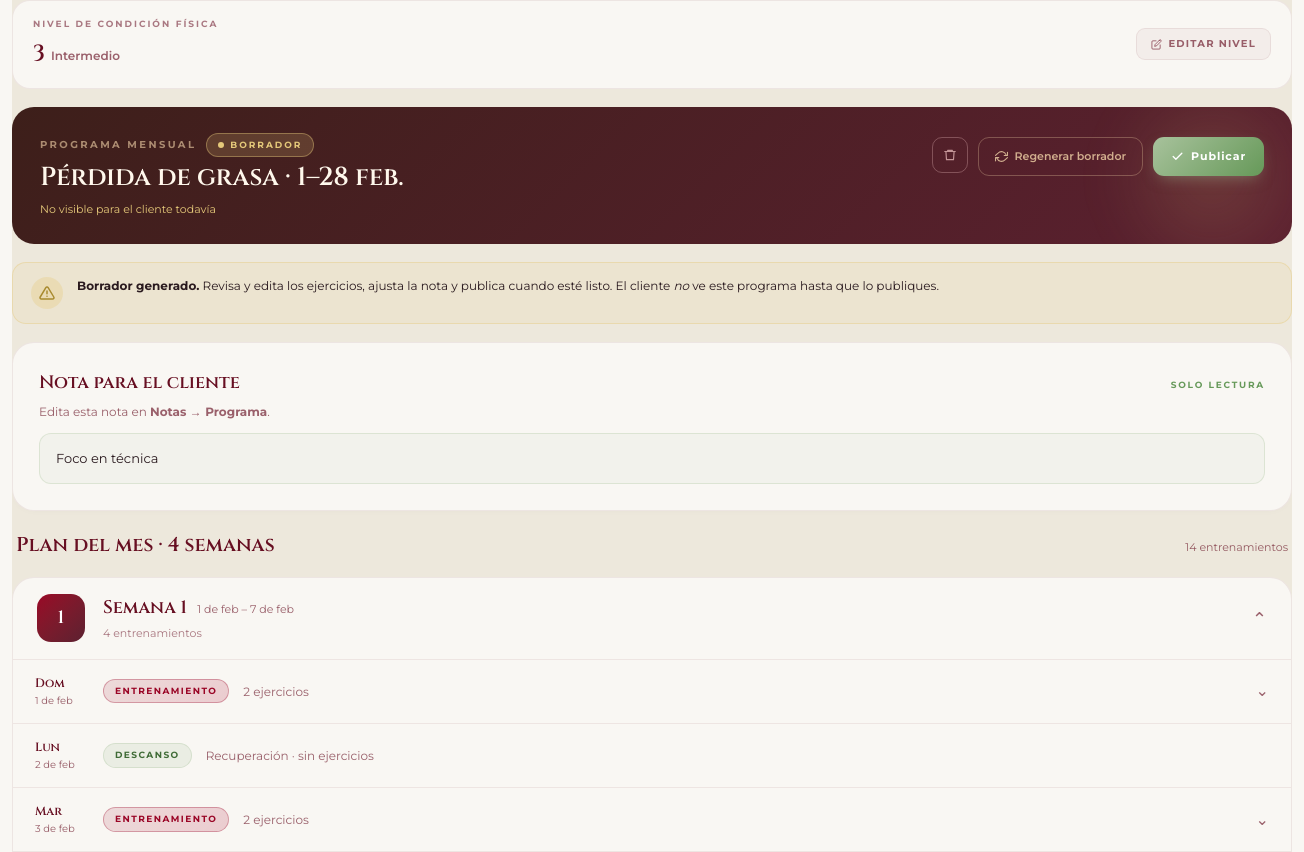
ClientProgramTab › reveals exercise rows when a week card is expanded
Expected: the text "Borrador" is shown, x1=206 y1=133 x2=314 y2=157
Click the 1st text "2 ejercicios" at (276, 691), box x1=243 y1=684 x2=309 y2=699
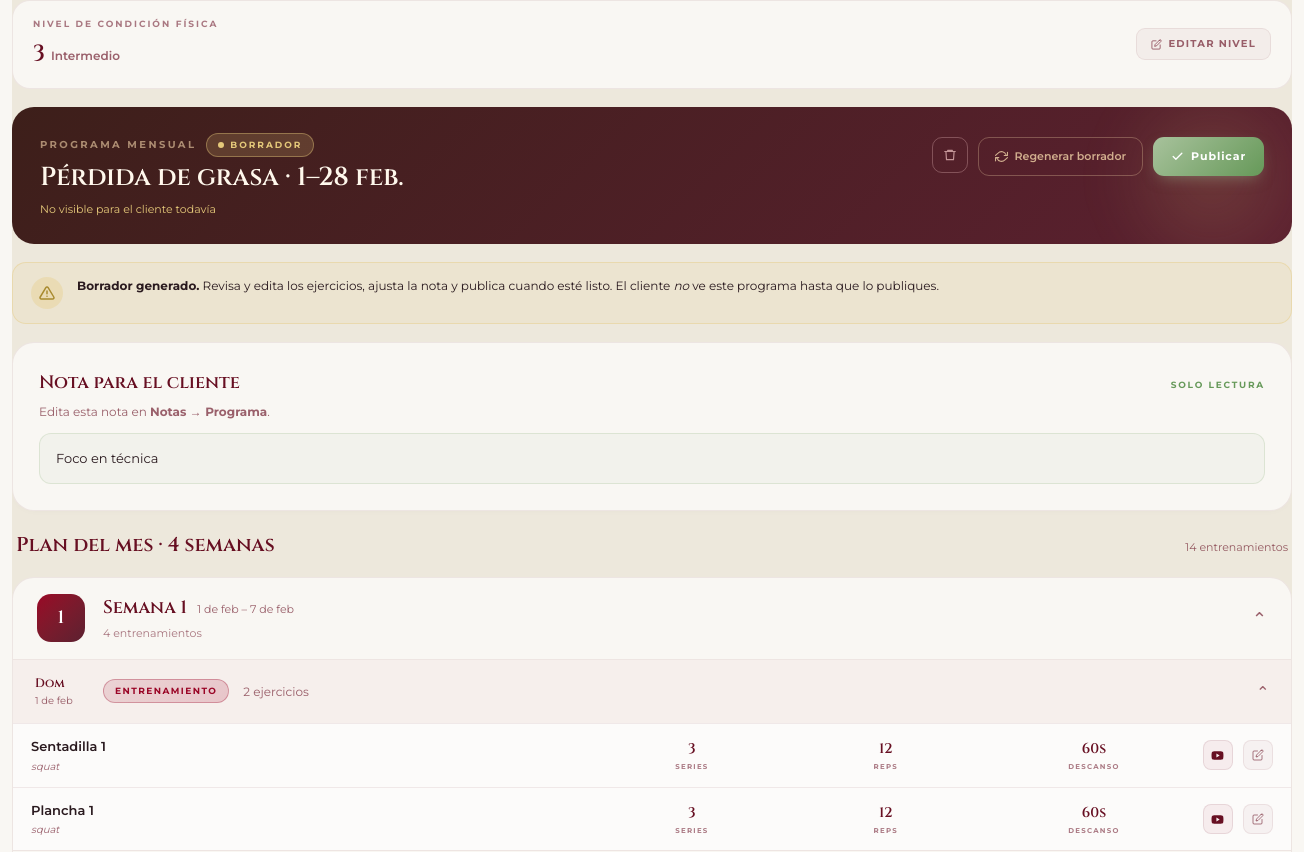
Expected: the text "Sentadilla 1" is shown, x1=31 y1=738 x2=106 y2=754
